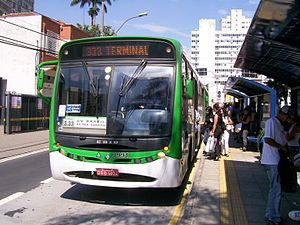bus: (46, 32, 207, 198)
